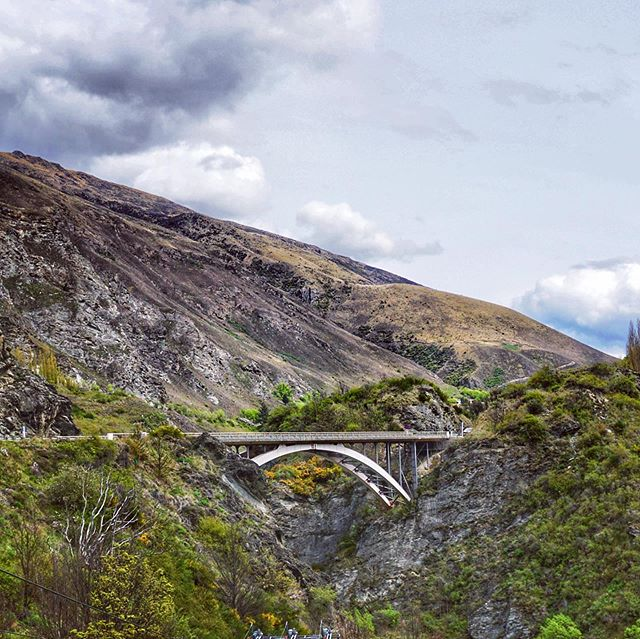bridge: (207, 404, 444, 513)
mountain: (1, 92, 508, 347)
sky: (20, 1, 640, 291)
